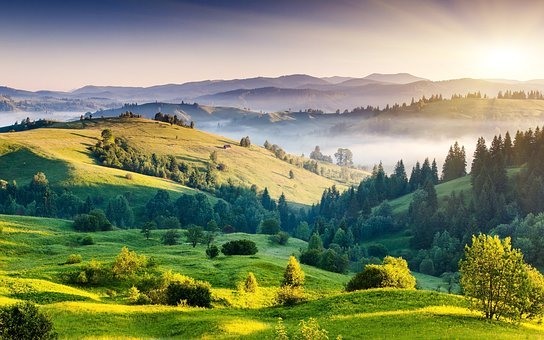mountain: (1, 80, 541, 337)
sky: (3, 2, 544, 84)
tree: (109, 247, 214, 327), (439, 123, 544, 203), (300, 175, 405, 255), (449, 228, 533, 327), (333, 208, 417, 307), (241, 231, 325, 330)
